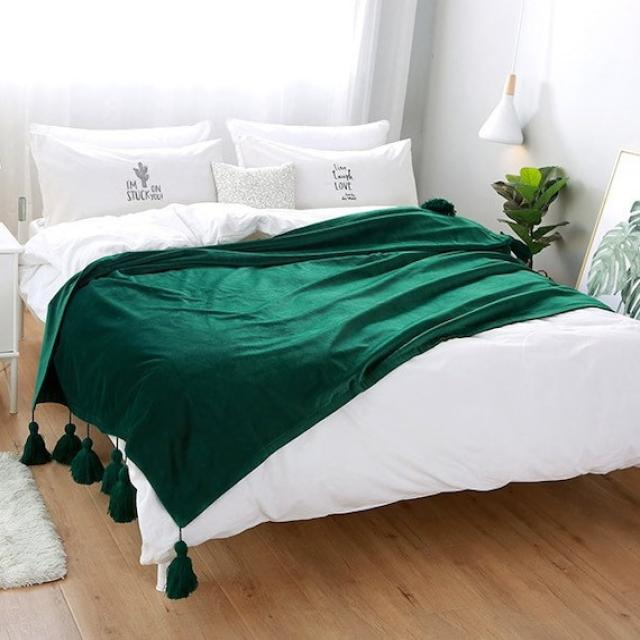blanket: (35, 208, 607, 527)
